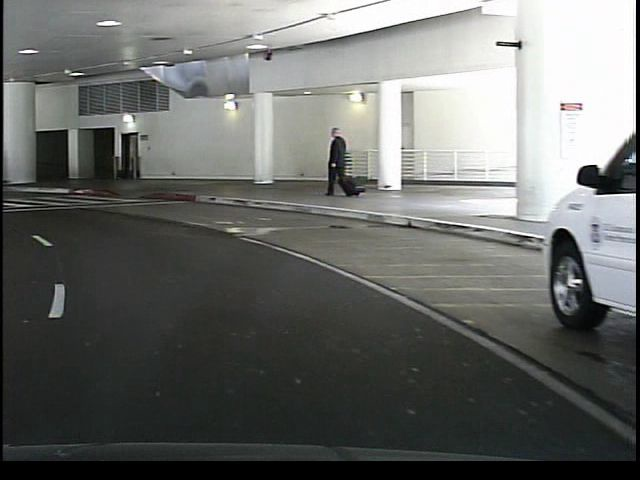person: (317, 124, 353, 202)
